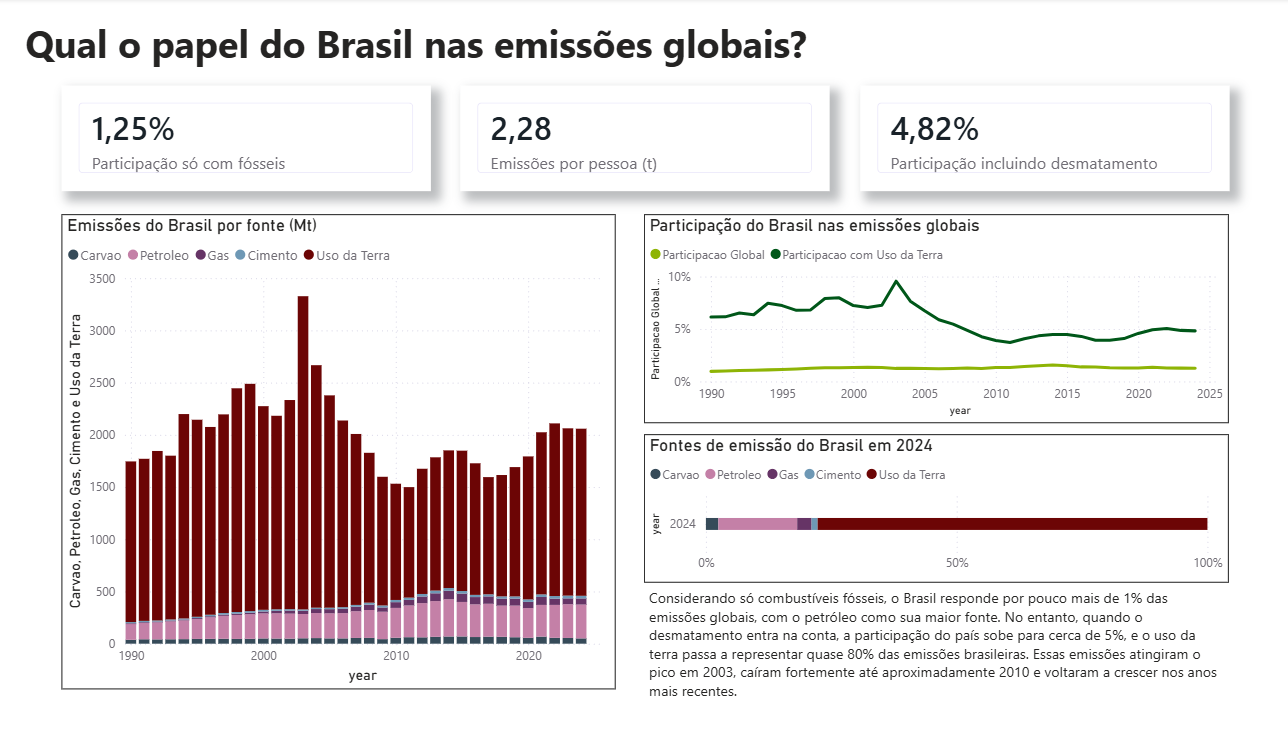

The page's visual inventory and layout, read from the dashboard file:
{"tool":"powerbi","page":{"name":"Brasil","canvas":[1280,730],"ordinal":4},"visuals":[{"type":"textbox","box":[20.8,14.7,967.3,59.9],"z":0},{"type":"cardVisual","fields":{"Data":["Emissoes.Participacao Global"]},"box":[61.6,86.2,366.2,104.6],"z":1000},{"type":"cardVisual","fields":{"Data":["Emissoes.Participacao com Uso da Terra"]},"box":[854.1,86.2,366.2,104.6],"z":2000},{"type":"cardVisual","fields":{"Data":["Emissoes.Emissoes per Capita"]},"box":[457,86.2,366.2,104.6],"z":3000},{"type":"lineChart","title":"Participação do Brasil nas emissões globais","fields":{"Category":["dAno.year"],"Y":["Emissoes.Participacao Global","Emissoes.Participacao com Uso da Terra"]},"box":[639.7,214.5,580.2,207],"z":4000},{"type":"columnChart","title":"Emissões do Brasil por fonte (Mt)","fields":{"Category":["dAno.year"],"Y":["Emissoes.Carvao","Emissoes.Petroleo","Emissoes.Gas","Emissoes.Cimento","Emissoes.Uso da Terra"]},"box":[61.6,213.9,549.4,470.9],"z":5000},{"type":"hundredPercentStackedBarChart","title":"Fontes de emissão do Brasil em 2024","fields":{"Category":["dAno.year"],"Y":["Emissoes.Carvao","Emissoes.Petroleo","Emissoes.Gas","Emissoes.Cimento","Emissoes.Uso da Terra"]},"box":[639.7,432.7,580.2,147.5],"z":6000},{"type":"textbox","box":[639.7,580.2,580.2,127.7],"z":6001}]}

Visuals, with their boxes in screenshot pixels (x1, y1, x2, y2), scaled from the page's 1280x730 canvas onto the 1288x732 screenshot:
textbox: box=[21, 15, 994, 75]
cardVisual - Emissoes.Participacao Global: box=[62, 86, 430, 191]
cardVisual - Emissoes.Participacao com Uso da Terra: box=[859, 86, 1228, 191]
cardVisual - Emissoes.Emissoes per Capita: box=[460, 86, 828, 191]
"Participação do Brasil nas emissões globais" lineChart: box=[644, 215, 1228, 423]
"Emissões do Brasil por fonte (Mt)" columnChart: box=[62, 214, 615, 687]
"Fontes de emissão do Brasil em 2024" hundredPercentStackedBarChart: box=[644, 434, 1228, 582]
textbox: box=[644, 582, 1228, 710]
